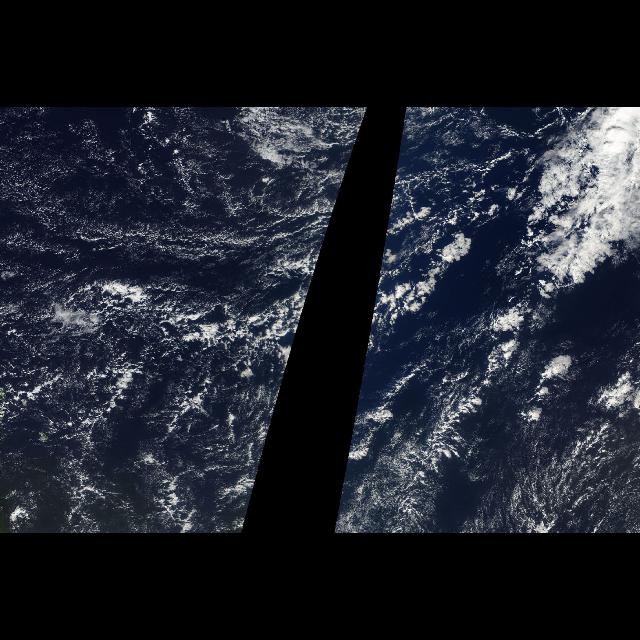Fish: (375, 288, 527, 522)
Gravel: (0, 280, 310, 480)
Sugar: (1, 111, 366, 529), (333, 325, 639, 527), (368, 118, 486, 322)
